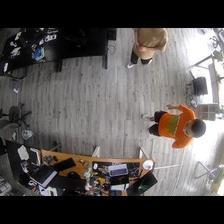normal: (141, 103, 205, 150), (126, 28, 169, 69)
